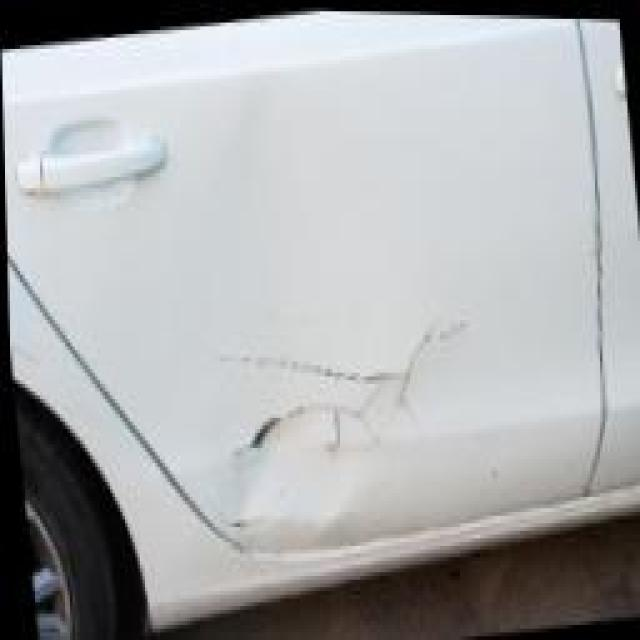Door: (108, 188, 598, 640)
